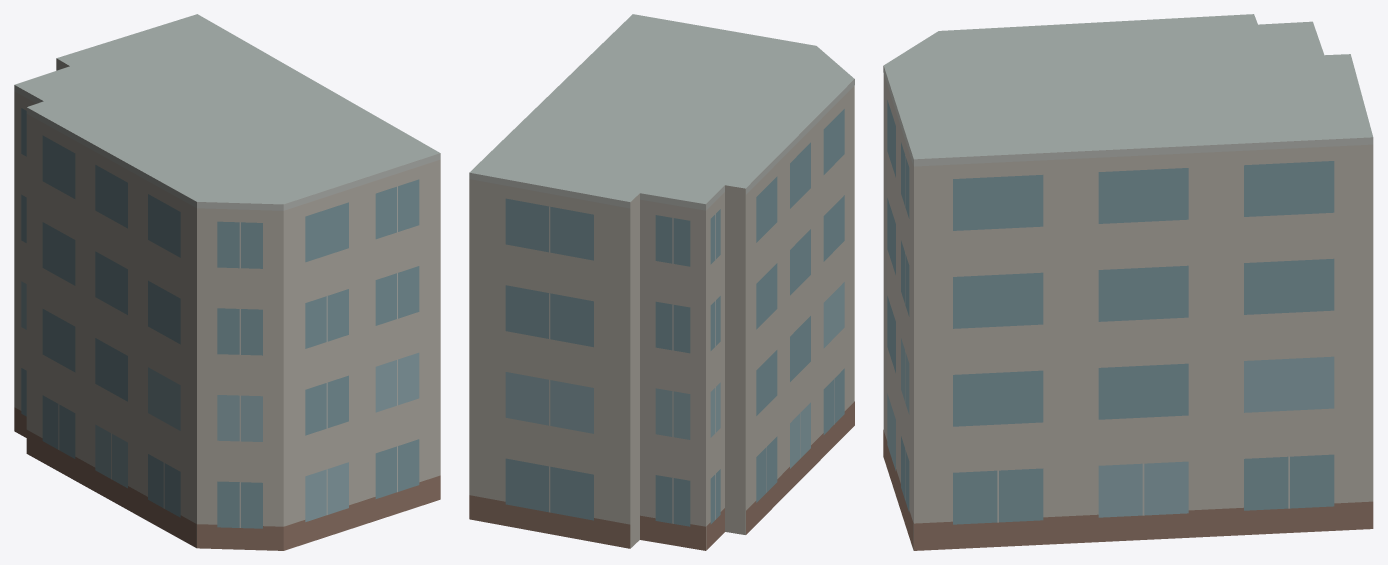
Rendered from survey-upis-32707564.glb.
3 renders of one model, left to right at view 1: azimuth 30°, elevation 25°; view 2: azimuth 150°, elevation 25°; view 3: azimuth 270°, elevation 25°, orthographic. The views are drawn at different scales.
Visible parts, largest first — view 1: survey-upis-32707564.tmp; view 2: survey-upis-32707564.tmp; view 3: survey-upis-32707564.tmp.
Boxes of the visible parts, x1,y1,x2,y2 form: survey-upis-32707564.tmp: [14, 14, 440, 550]; survey-upis-32707564.tmp: [469, 14, 854, 550]; survey-upis-32707564.tmp: [883, 14, 1373, 550].
Size of the model in its own units: 10.51 by 13.2 by 14.97.
